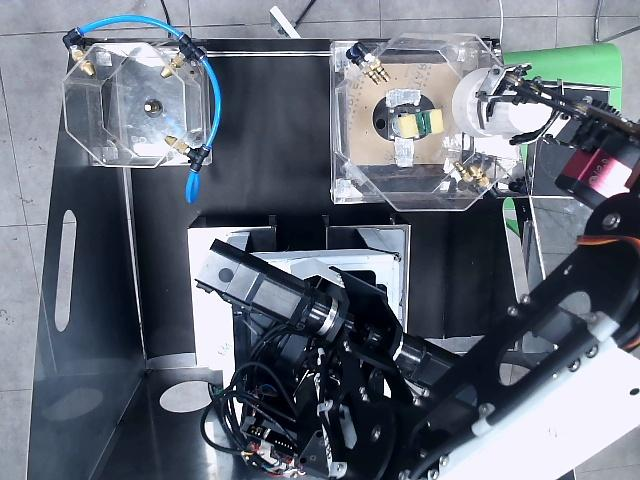cup: (452, 66, 552, 142)
